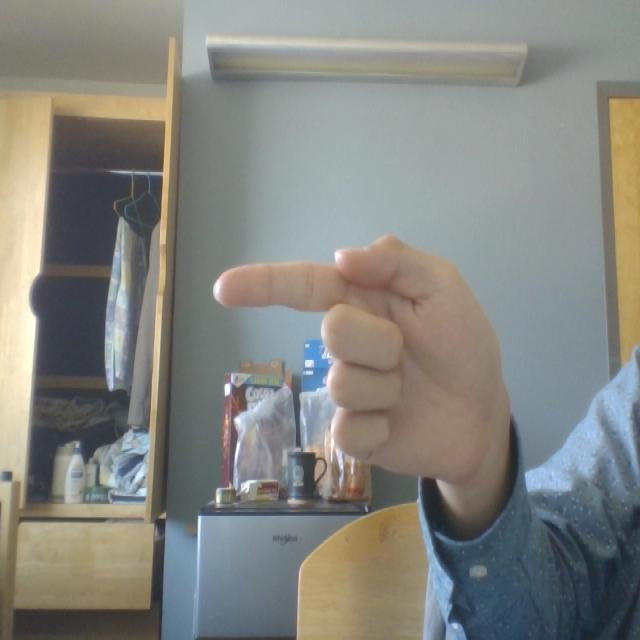G: (196, 170, 562, 546)
